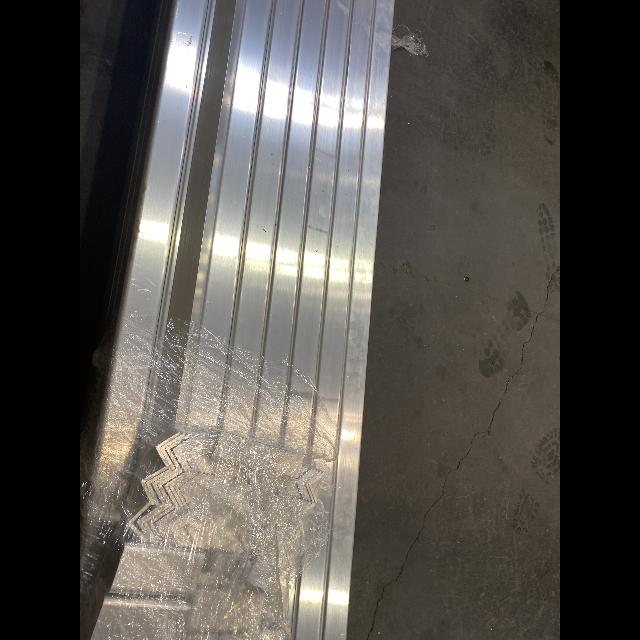Aluminium: (129, 0, 395, 640)
